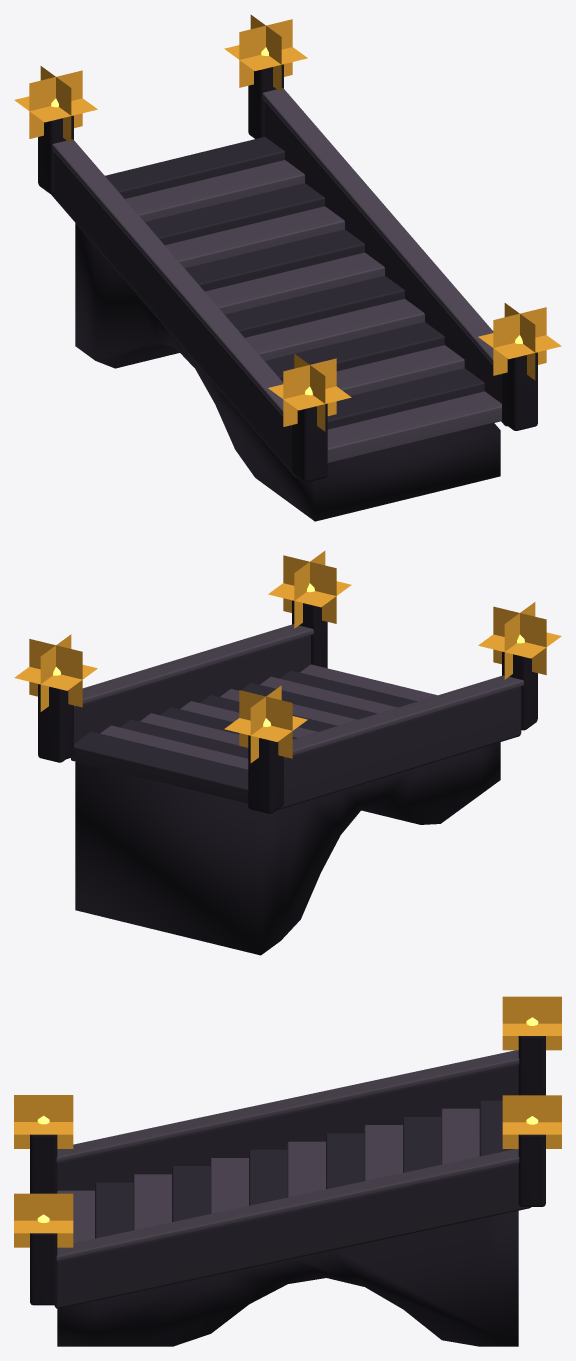
File: lava_bridge.glb
3 renders of one model, top to bottom at view 1: azimuth 30°, elevation 25°; view 2: azimuth 150°, elevation 25°; view 3: azimuth 270°, elevation 25°, orthographic. The views are drawn at different scales.
Parts seen in each view (by area): view 1: Bridge; view 2: Bridge; view 3: Bridge.
Part boxes in pixels (left/top/right/bottom): Bridge: left=14, top=14, right=561, bottom=521; Bridge: left=14, top=551, right=561, bottom=955; Bridge: left=14, top=996, right=561, bottom=1346.
Size of the model in its own units: 5.39 by 5.23 by 10.09.
